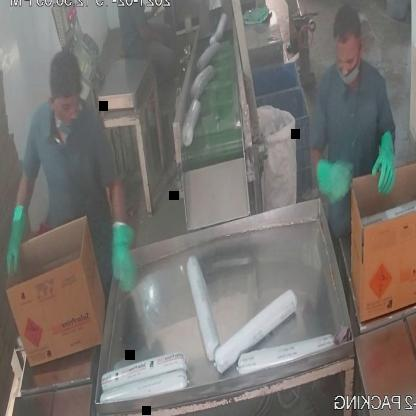glove: (2, 185, 35, 282), (366, 121, 404, 205), (107, 206, 138, 304), (312, 153, 356, 207)
